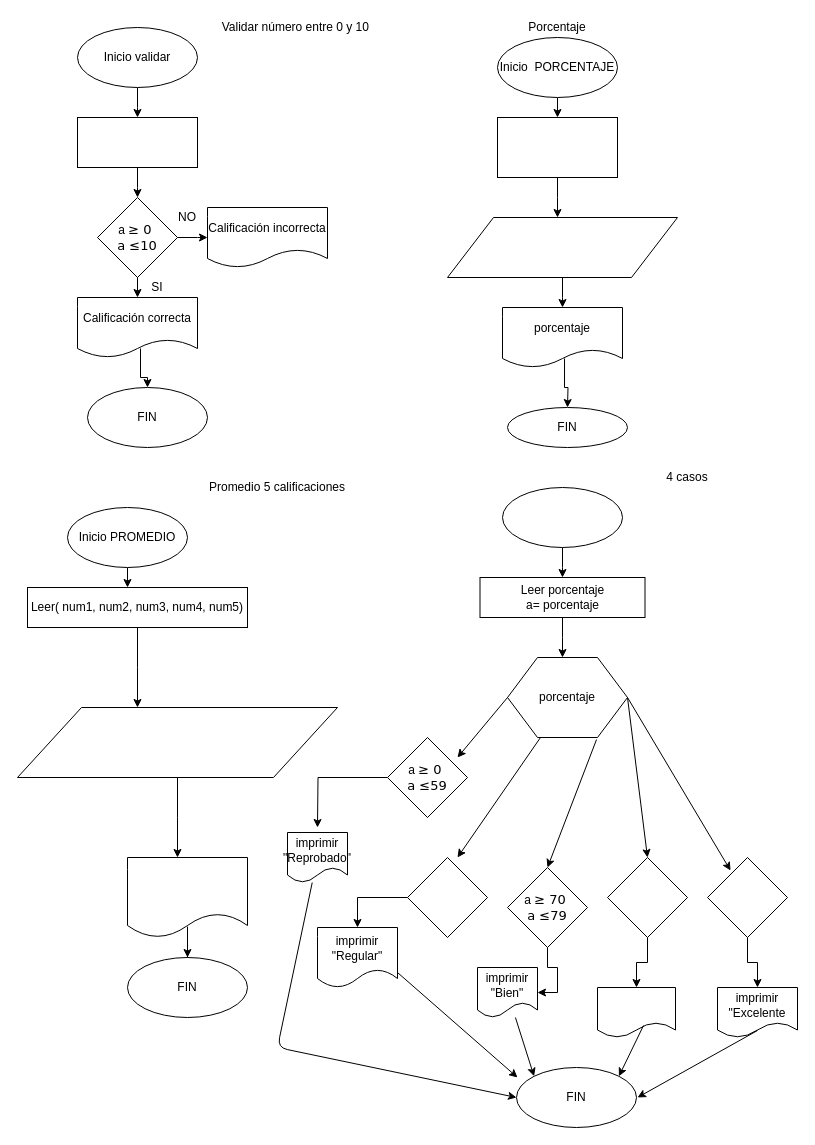
The diagram is 815 pixels wide and 1145 high, and some of its shapes have lost their labels. The centre of each missing label's shape, as x and y in pixels:
a : ENTERO Leer a: [137,142]
a ≥ 60 a ≤69: [447,897]
a ≥ 80 a ≤89: [647,897]
a ≥ 90 a ≤100: [747,897]
float (promedio): [187,897]
imprimir "Muy bien": [636,1012]
Inicio casos: [562,517]
porcentaje = (promedio * 10): [562,247]
promedio: float porcentaje: float Leer promedio: [557,147]
promedio=( num1+num2+num3+num4+num5)/5: [177,742]
